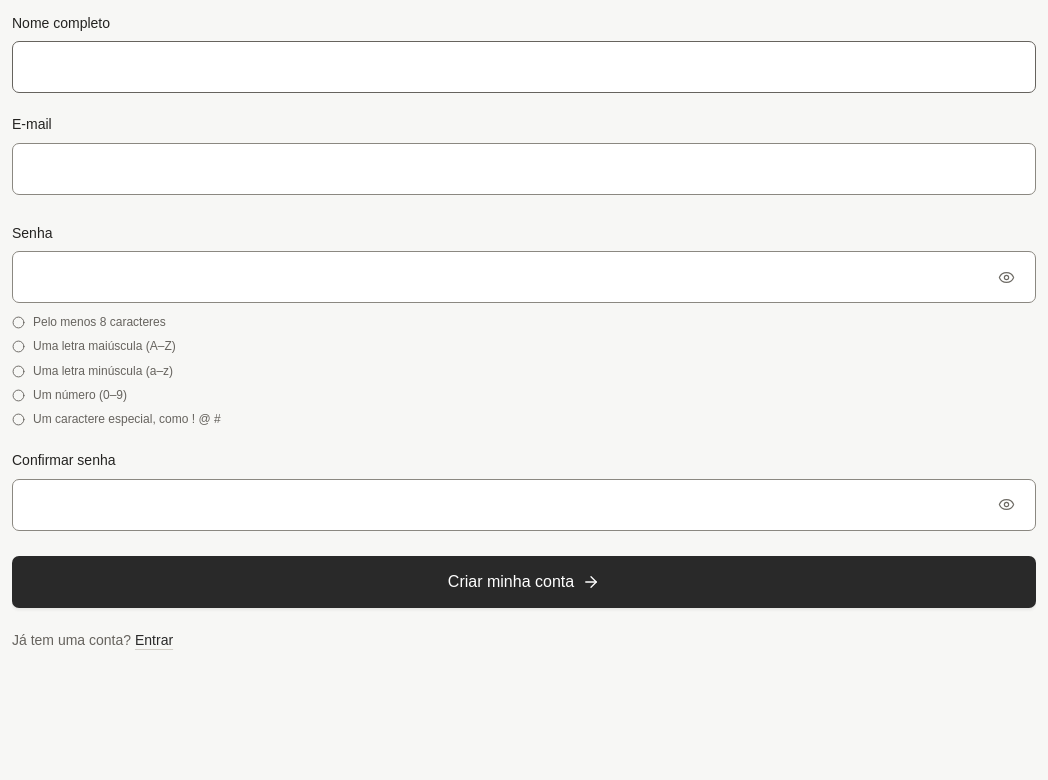
Test: Verificação do e-mail durante o cadastro › falha de consulta fica visível e oferece nova tentativa
In the field labelled "E-mail": (524, 169) x1=12 y1=143 x2=1036 y2=195, type "pessoa@example.test"
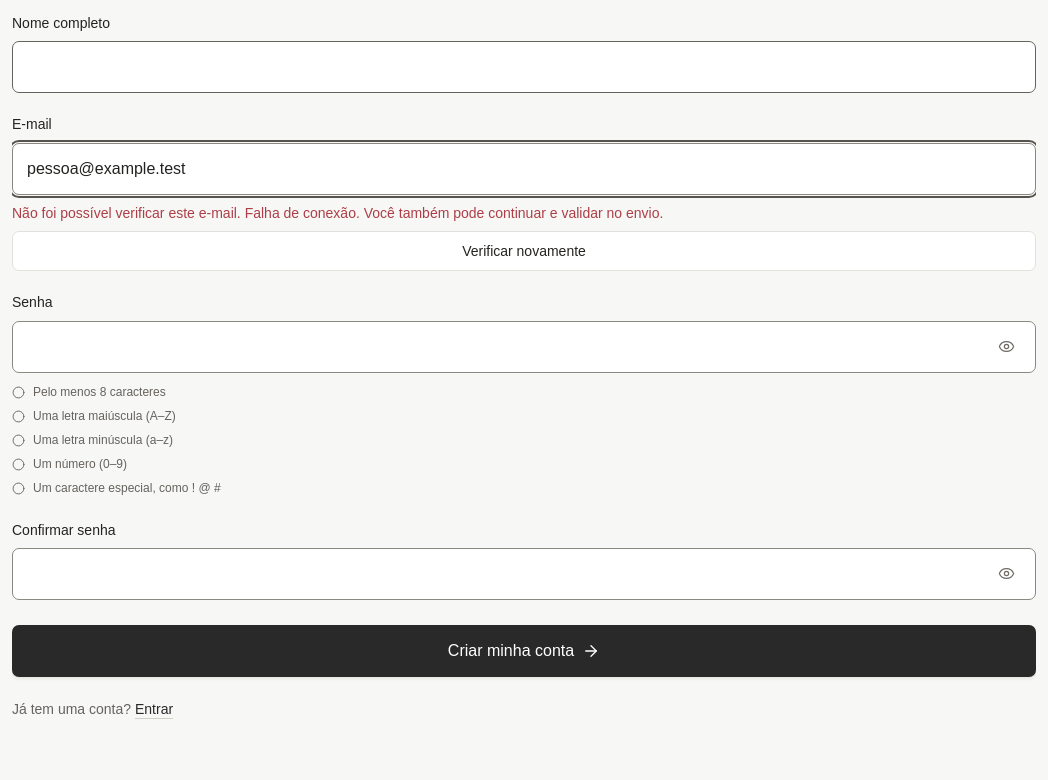
expect the text "Não foi possível verificar este e-mail" is shown: met, box x1=12 y1=205 x2=245 y2=221
Click the button "Verificar novamente": (524, 251) x1=12 y1=231 x2=1036 y2=271
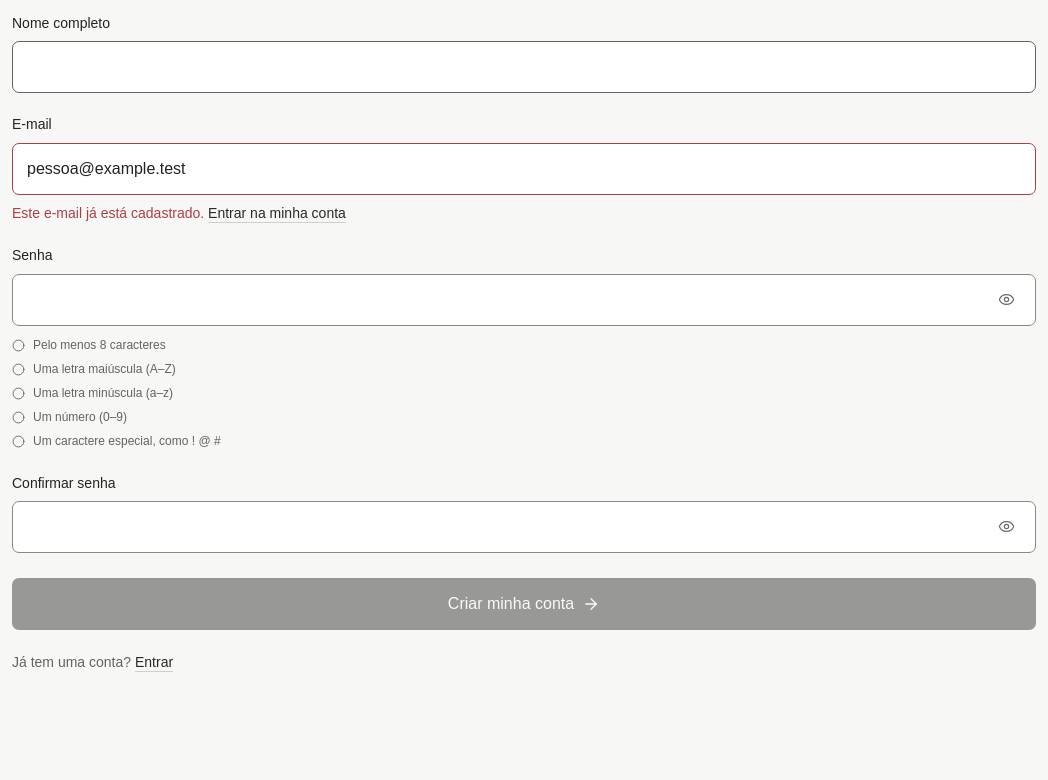
expect the text "Este e-mail já está cadastrado. Entrar na minha conta" is shown: met, box x1=12 y1=205 x2=346 y2=221
